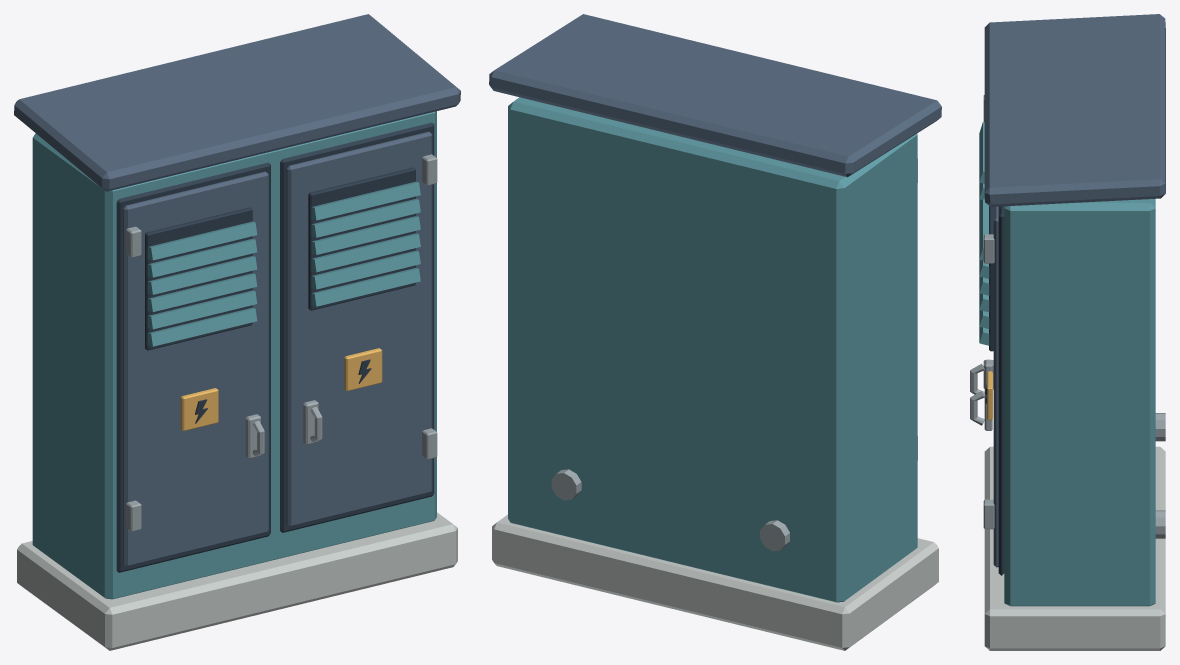
The model's file is utility_box.glb.
3 renders of one model, left to right at view 1: azimuth 30°, elevation 25°; view 2: azimuth 150°, elevation 25°; view 3: azimuth 270°, elevation 25°, orthographic. The views are drawn at different scales.
Parts seen in each view (by area): view 1: cabinet_body, cabinet_sloping_rain_cap, cabinet_service_door.001, cabinet_service_door, cabinet_stone_plinth, cabinet_door_recess.001, cabinet_door_recess, cabinet_louver_recess.001, cabinet_louver_recess, cabinet_angled_louver.003, cabinet_angled_louver, cabinet_angled_louver.001 (+11 smaller); view 2: cabinet_body, cabinet_sloping_rain_cap, cabinet_stone_plinth, cabinet_rear_cable_gland.001, cabinet_rear_cable_gland; view 3: cabinet_body, cabinet_sloping_rain_cap, cabinet_stone_plinth, cabinet_door_recess.001, cabinet_service_door.001, cabinet_louver_recess.001, cabinet_angled_louver.011, cabinet_exterior_hinge.002, cabinet_exterior_hinge.003, cabinet_angled_louver.005, cabinet_rear_cable_gland.001, cabinet_rear_cable_gland (+1 smaller).
Boxes of the visible parts, left/top/right/bottom form: cabinet_body: left=32, top=111, right=436, bottom=599; cabinet_sloping_rain_cap: left=14, top=14, right=460, bottom=191; cabinet_service_door.001: left=286, top=131, right=432, bottom=526; cabinet_service_door: left=123, top=171, right=268, bottom=566; cabinet_stone_plinth: left=17, top=512, right=457, bottom=650; cabinet_door_recess.001: left=280, top=122, right=434, bottom=532; cabinet_door_recess: left=116, top=162, right=270, bottom=572; cabinet_louver_recess.001: left=308, top=167, right=415, bottom=310; cabinet_louver_recess: left=145, top=207, right=252, bottom=350; cabinet_angled_louver.003: left=147, top=256, right=257, bottom=294; cabinet_angled_louver: left=147, top=307, right=257, bottom=346; cabinet_angled_louver.001: left=147, top=290, right=257, bottom=329; cabinet_body: left=508, top=97, right=917, bottom=602; cabinet_sloping_rain_cap: left=489, top=14, right=941, bottom=177; cabinet_stone_plinth: left=492, top=514, right=938, bottom=650; cabinet_rear_cable_gland.001: left=551, top=469, right=581, bottom=500; cabinet_rear_cable_gland: left=760, top=520, right=789, bottom=551; cabinet_body: left=1004, top=199, right=1155, bottom=606; cabinet_sloping_rain_cap: left=984, top=14, right=1165, bottom=206; cabinet_stone_plinth: left=984, top=446, right=1165, bottom=650; cabinet_door_recess.001: left=998, top=206, right=1004, bottom=575; cabinet_service_door.001: left=993, top=206, right=998, bottom=567; cabinet_louver_recess.001: left=989, top=206, right=993, bottom=351; cabinet_angled_louver.011: left=979, top=199, right=988, bottom=260; cabinet_exterior_hinge.002: left=983, top=499, right=994, bottom=529; cabinet_exterior_hinge.003: left=983, top=234, right=994, bottom=263; cabinet_angled_louver.005: left=979, top=122, right=984, bottom=183; cabinet_rear_cable_gland.001: left=1155, top=510, right=1165, bottom=538; cabinet_rear_cable_gland: left=1155, top=413, right=1165, bottom=441.
Size of the model in its own units: 1.22 by 1.59 by 0.5948.
